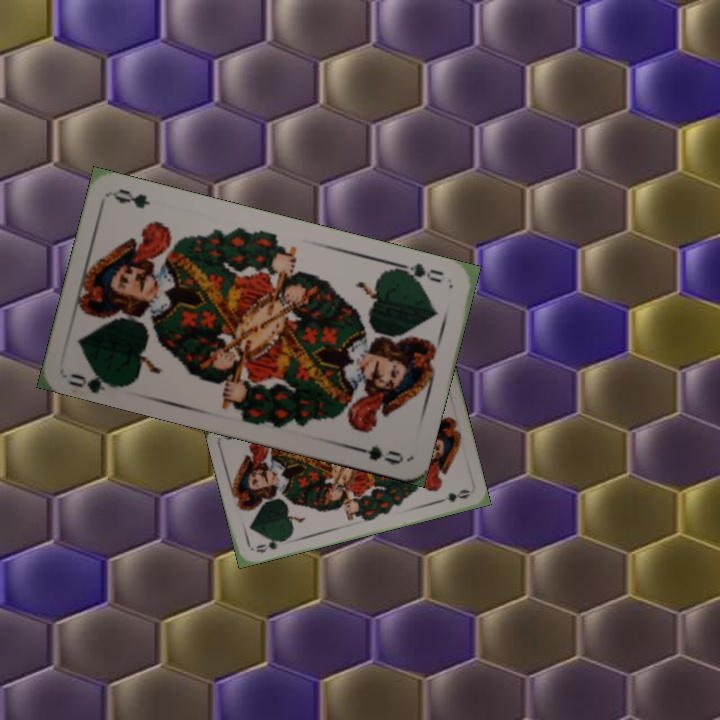GO: (65, 364, 123, 395), (392, 259, 446, 286), (251, 534, 289, 556)
